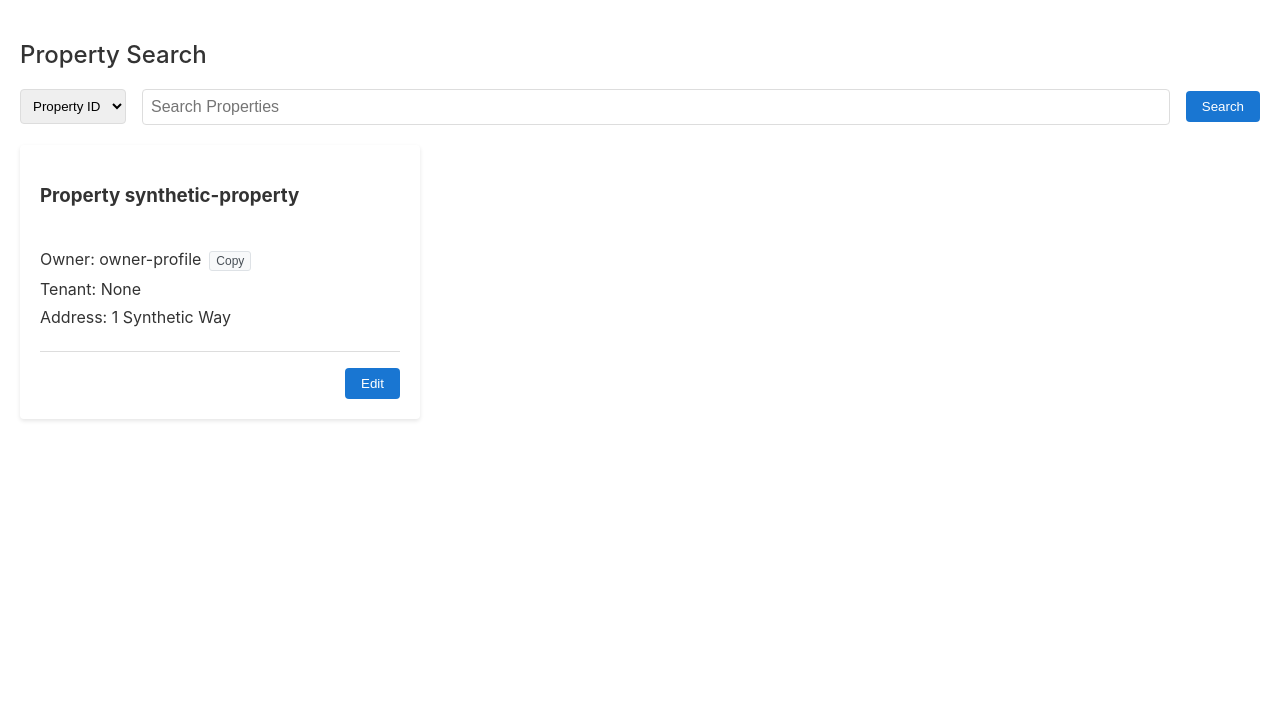
Test case: PropertyManager edits › shows a generic error and keeps the modal open when save fails
The image size is (1280, 720).
Click the button "Edit": coordinates (372, 384) [345,368,400,399]
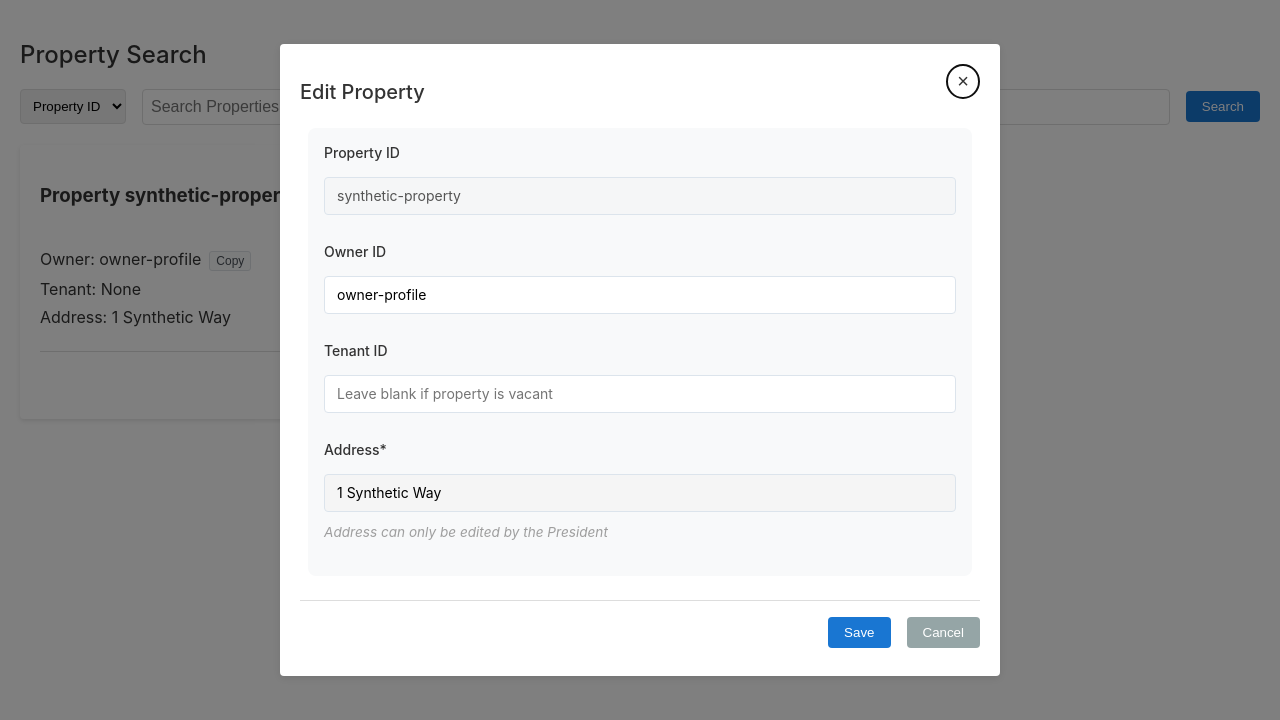
Click the button "Save": coordinates (859, 632) [828,617,890,648]
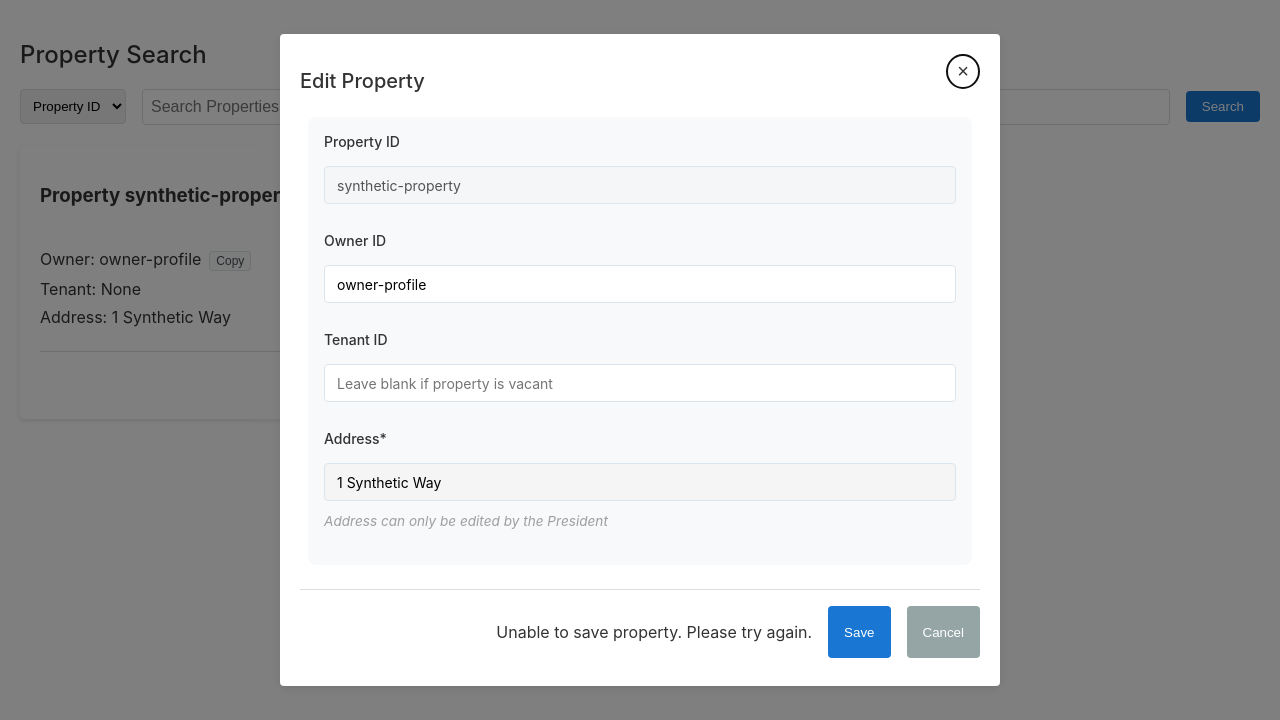
Check: the button "Save" is shown, box [828,606,890,658]
Check: the message reads "Unable to save property. Please try again.", box [496,622,812,642]
